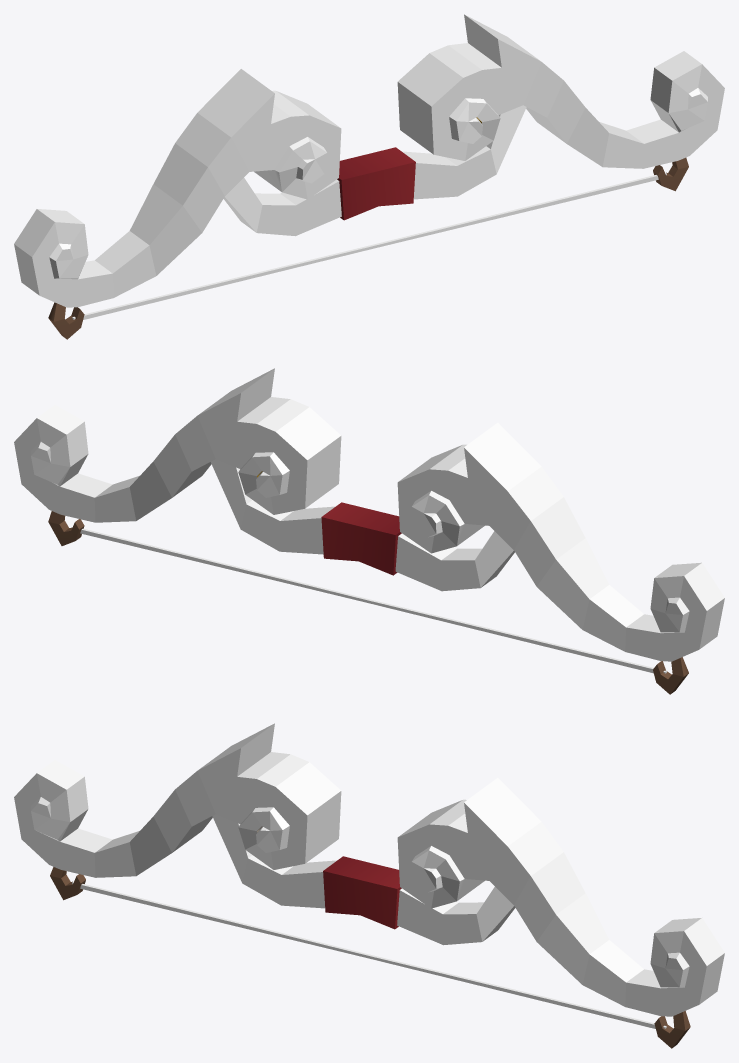
File: bow.fbx
3 renders of one model, top to bottom at view 1: azimuth 30°, elevation 25°; view 2: azimuth 150°, elevation 25°; view 3: azimuth 330°, elevation 25°, orthographic.
Parts seen in each view (by area): view 1: bow; view 2: bow; view 3: bow.
Part boxes in pixels (bbox=[...]): bow: bbox=[14, 14, 724, 339]; bow: bbox=[14, 368, 724, 694]; bow: bbox=[14, 723, 724, 1048].
Size of the model in its own units: 58.47 by 16.96 by 6.85.
